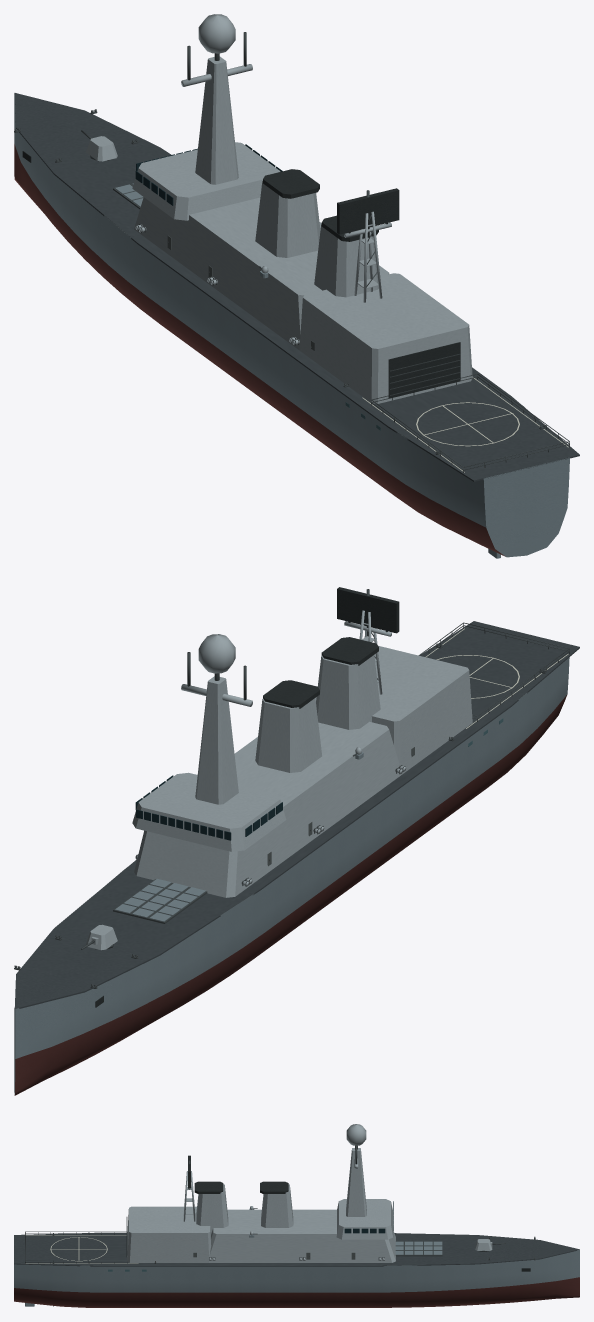
The model's file is wings_type45_daring_class.glb.
The picture shows the model from 3 angles, top to bottom: view 1: azimuth 30°, elevation 25°; view 2: azimuth 150°, elevation 25°; view 3: azimuth 270°, elevation 25°; orthographic projection. The views are drawn at different scales.
Parts seen in each view (by area): view 1: static_hull_deck_superstructure; view 2: static_hull_deck_superstructure; view 3: static_hull_deck_superstructure.
Boxes of the visible parts, left/top/right/bottom form: static_hull_deck_superstructure: left=14, top=14, right=579, bottom=558; static_hull_deck_superstructure: left=14, top=587, right=579, bottom=1095; static_hull_deck_superstructure: left=14, top=1124, right=579, bottom=1307.
Bounding box in the file's own units: 21.2 × 52.64 × 152.
Materials: 1 (1 with a texture image).
